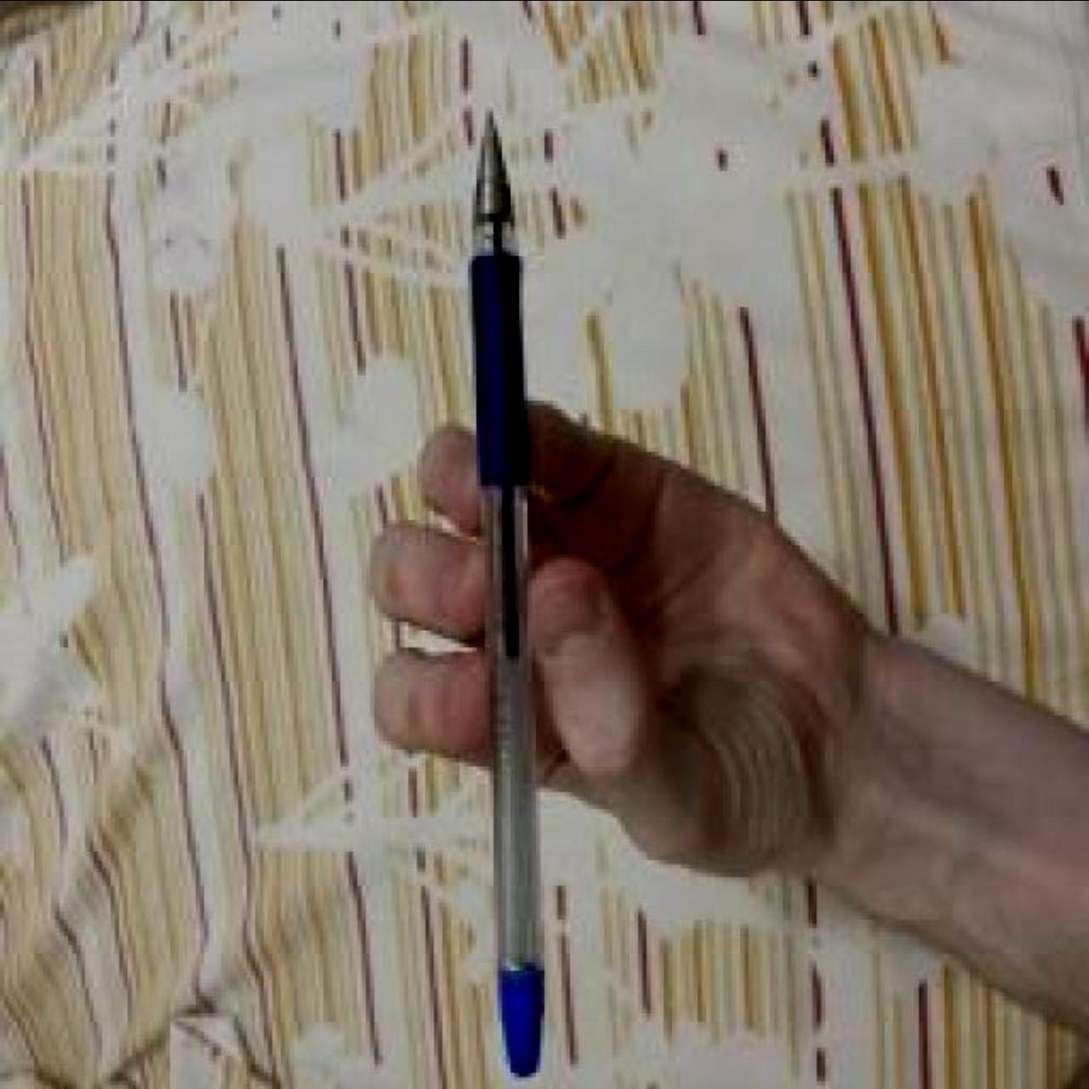pen: (468, 105, 553, 1080)
